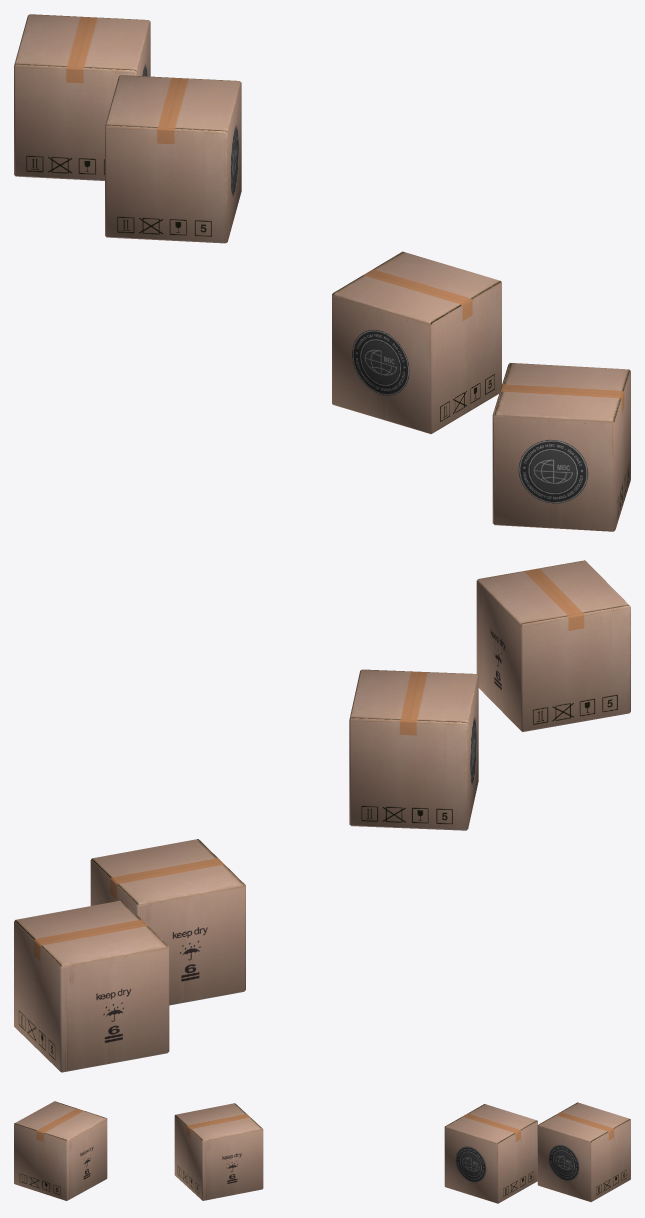
Rendered from Carton.fbx.
3 views of the same model, one above another, from view 1: azimuth 30°, elevation 25°; view 2: azimuth 150°, elevation 25°; view 3: azimuth 270°, elevation 25° (orthographic). The views are drawn at different scales.
Parts seen in each view (by area): view 1: Box072.003, Box072.004, Box072.001, Box072.002; view 2: Box072.002, Box072.004, Box072.003, Box072.001; view 3: Box072.002, Box072.004, Box072.001, Box072.003.
Boxes of the visible parts, <box> form: Box072.003: <box>332,251,501,434</box>; Box072.004: <box>492,363,630,531</box>; Box072.001: <box>105,75,241,243</box>; Box072.002: <box>14,14,150,180</box>; Box072.002: <box>14,900,169,1072</box>; Box072.004: <box>476,560,630,732</box>; Box072.003: <box>349,669,478,830</box>; Box072.001: <box>90,839,245,1005</box>; Box072.002: <box>537,1102,630,1201</box>; Box072.004: <box>14,1101,107,1200</box>; Box072.001: <box>444,1104,537,1203</box>; Box072.003: <box>174,1103,263,1200</box>.
Bounding box in the file's own units: 0.9706 × 6.17 × 0.6883.
Materials: 1 (1 with a texture image).
